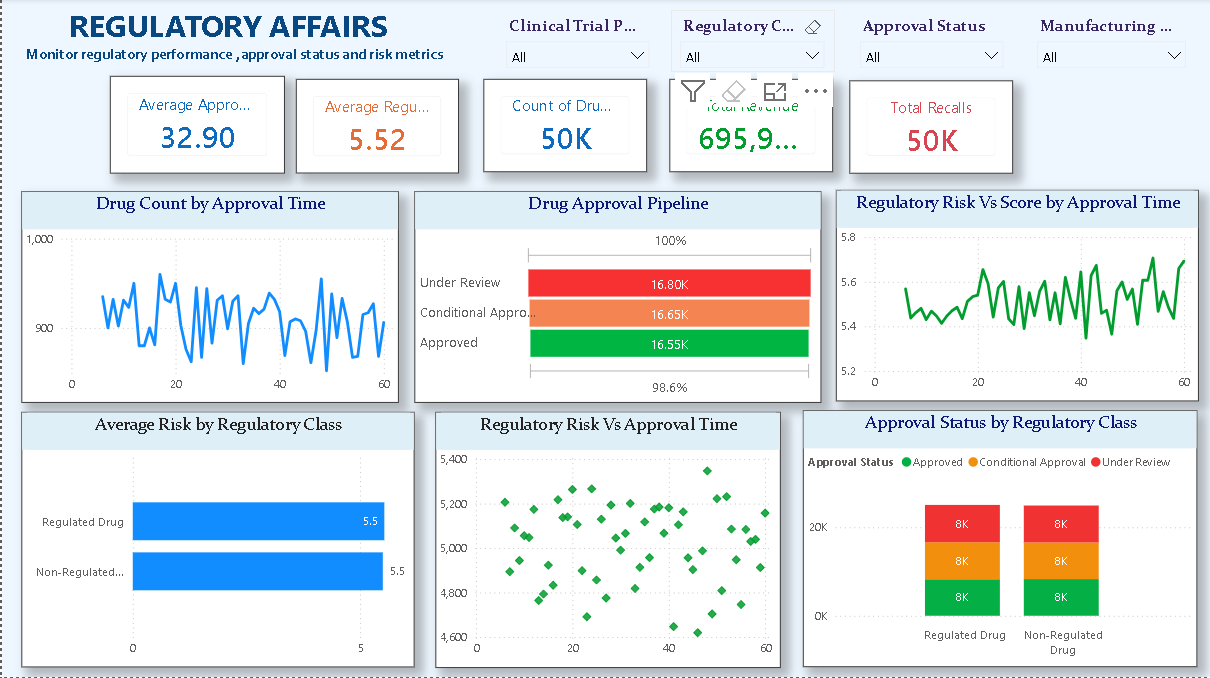

The page's visual inventory and layout, read from the dashboard file:
{"tool":"powerbi","page":{"name":"Regulatory Affairs","canvas":[1280,720],"ordinal":1},"visuals":[{"type":"cardVisual","fields":{"Data":["Drug_Regulatory_Dataset.Average Approval Time"]},"box":[114.6,82.3,185.5,103.3],"z":0},{"type":"cardVisual","fields":{"Data":["CountNonNull(Drug_Regulatory_Dataset.Recall_History_Count)"]},"box":[898.7,87.1,173.4,98.6],"z":1000},{"type":"cardVisual","fields":{"Data":["Drug_Regulatory_Dataset.Total Revenue"]},"box":[708.3,85.5,173.4,98.6],"z":2000},{"type":"cardVisual","fields":{"Data":["CountNonNull(Drug_Regulatory_Dataset.Drug_Name)"]},"box":[509.9,85.5,173.4,98.6],"z":3000},{"type":"cardVisual","fields":{"Data":["Drug_Regulatory_Dataset.Average Regulatory Risk"]},"box":[311.4,85.5,172.6,100],"z":4000},{"type":"lineChart","title":"Drug Count by Approval Time","fields":{"Category":["Drug_Regulatory_Dataset.Approval_Time_Months"],"Y":["CountNonNull(Drug_Regulatory_Dataset.Drug_Name)"]},"box":[21,204.9,400.1,224.3],"z":5000},{"type":"barChart","title":"Average Risk by Regulatory Class","fields":{"Category":["Drug_Regulatory_Dataset.Target_Regulatory_Class"],"Y":["Drug_Regulatory_Dataset.Average Regulatory Risk"]},"box":[20.7,439,416.7,270.4],"z":6000},{"type":"slicer","fields":{"Values":["Drug_Regulatory_Dataset.Approval_Status"]},"box":[900.3,12.9,171,64.5],"z":7000},{"type":"slicer","fields":{"Values":["Drug_Regulatory_Dataset.Manufacturing_Region"]},"box":[1087.5,12.9,177.5,62.9],"z":8000},{"type":"slicer","fields":{"Values":["Drug_Regulatory_Dataset.Clinical_Trial_Phase"]},"box":[524.4,12.9,171,64.5],"z":9000},{"type":"slicer","fields":{"Values":["Drug_Regulatory_Dataset.Target_Regulatory_Class"]},"box":[709.9,12.9,172.6,64.5],"z":10000},{"type":"funnel","title":"Drug Approval Pipeline","fields":{"Category":["Drug_Regulatory_Dataset.Approval_Status"],"Y":["CountNonNull(Drug_Regulatory_Dataset.Drug_Name)"]},"box":[437.4,205.2,431.1,224.3],"z":11000},{"type":"scatterChart","title":"Regulatory Risk Vs Approval Time","fields":{"Y":["Sum(Drug_Regulatory_Dataset.Regulatory_Risk_Score)"],"X":["Drug_Regulatory_Dataset.Approval_Time_Months"]},"box":[459.8,438.9,366.3,271.1],"z":12000},{"type":"lineChart","title":"Regulatory Risk Vs Score by Approval Time","fields":{"Category":["Drug_Regulatory_Dataset.Approval_Time_Months"],"Y":["Avg(Drug_Regulatory_Dataset.Regulatory_Risk_Score)"]},"box":[884.4,203.6,384.9,224.3],"z":13000},{"type":"columnChart","title":" Approval Status by Regulatory Class","fields":{"Category":["Drug_Regulatory_Dataset.Target_Regulatory_Class"],"Series":["Drug_Regulatory_Dataset.Approval_Status"],"Y":["CountNonNull(Drug_Regulatory_Dataset.Drug_Name)"]},"box":[849.4,437.4,418.3,272],"z":14000},{"type":"textbox","box":[20.7,1.6,439,63.6],"z":15000},{"type":"textbox","box":[21,45.2,488.9,40.3],"z":16000}]}

Visuals, with their boxes in screenshot pixels (x1, y1, x2, y2), scaled from the page's 1280x720 canvas onto the 1210x678 screenshot:
cardVisual - Drug_Regulatory_Dataset.Average Approval Time: x1=108 y1=77 x2=284 y2=175
cardVisual - CountNonNull(Drug_Regulatory_Dataset.Recall_History_Count): x1=850 y1=82 x2=1013 y2=175
cardVisual - Drug_Regulatory_Dataset.Total Revenue: x1=670 y1=81 x2=833 y2=173
cardVisual - CountNonNull(Drug_Regulatory_Dataset.Drug_Name): x1=482 y1=81 x2=646 y2=173
cardVisual - Drug_Regulatory_Dataset.Average Regulatory Risk: x1=294 y1=81 x2=458 y2=175
"Drug Count by Approval Time" lineChart: x1=20 y1=193 x2=398 y2=404
"Average Risk by Regulatory Class" barChart: x1=20 y1=413 x2=413 y2=668
slicer - Drug_Regulatory_Dataset.Approval_Status: x1=851 y1=12 x2=1013 y2=73
slicer - Drug_Regulatory_Dataset.Manufacturing_Region: x1=1028 y1=12 x2=1196 y2=71
slicer - Drug_Regulatory_Dataset.Clinical_Trial_Phase: x1=496 y1=12 x2=657 y2=73
slicer - Drug_Regulatory_Dataset.Target_Regulatory_Class: x1=671 y1=12 x2=834 y2=73
"Drug Approval Pipeline" funnel: x1=413 y1=193 x2=821 y2=404
"Regulatory Risk Vs Approval Time" scatterChart: x1=435 y1=413 x2=781 y2=669
"Regulatory Risk Vs Score by Approval Time" lineChart: x1=836 y1=192 x2=1200 y2=403
" Approval Status by Regulatory Class" columnChart: x1=803 y1=412 x2=1198 y2=668
textbox: x1=20 y1=2 x2=435 y2=61
textbox: x1=20 y1=43 x2=482 y2=81
